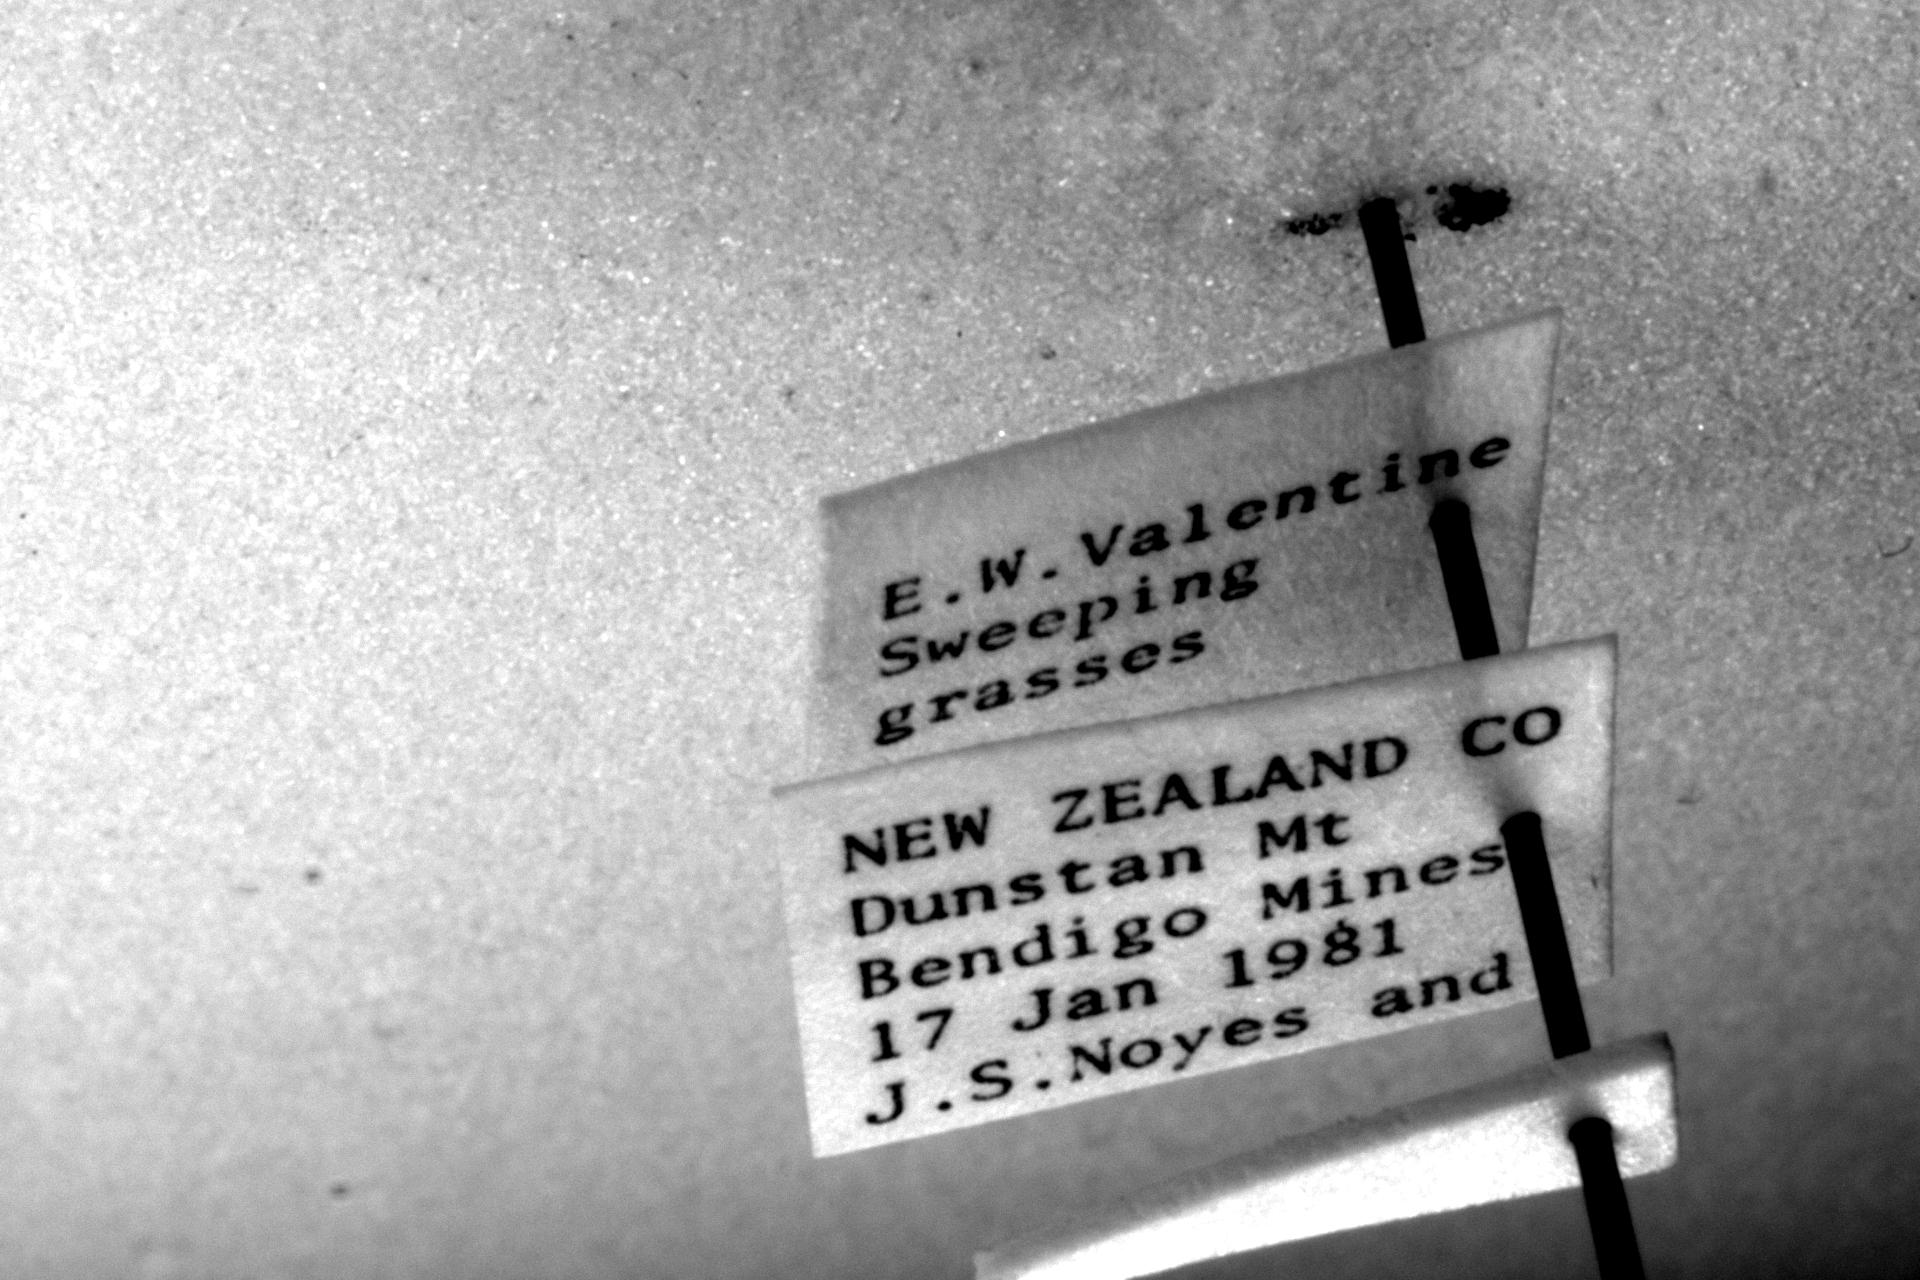typed_label: (776, 637, 1616, 1154), (814, 311, 1560, 776)
